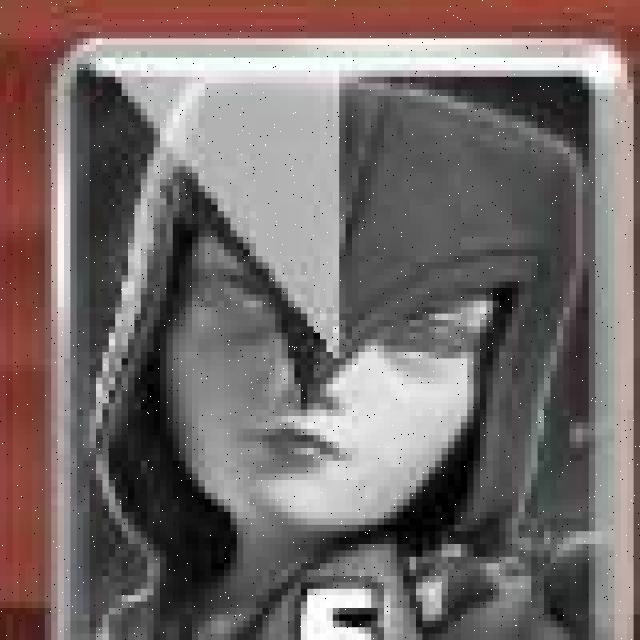Witch: (46, 41, 632, 640)
